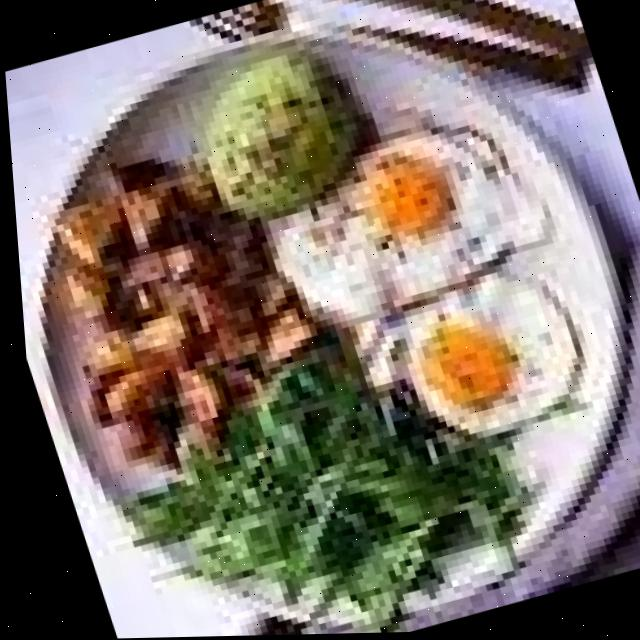Egg: (268, 131, 541, 325), (398, 275, 573, 437)
